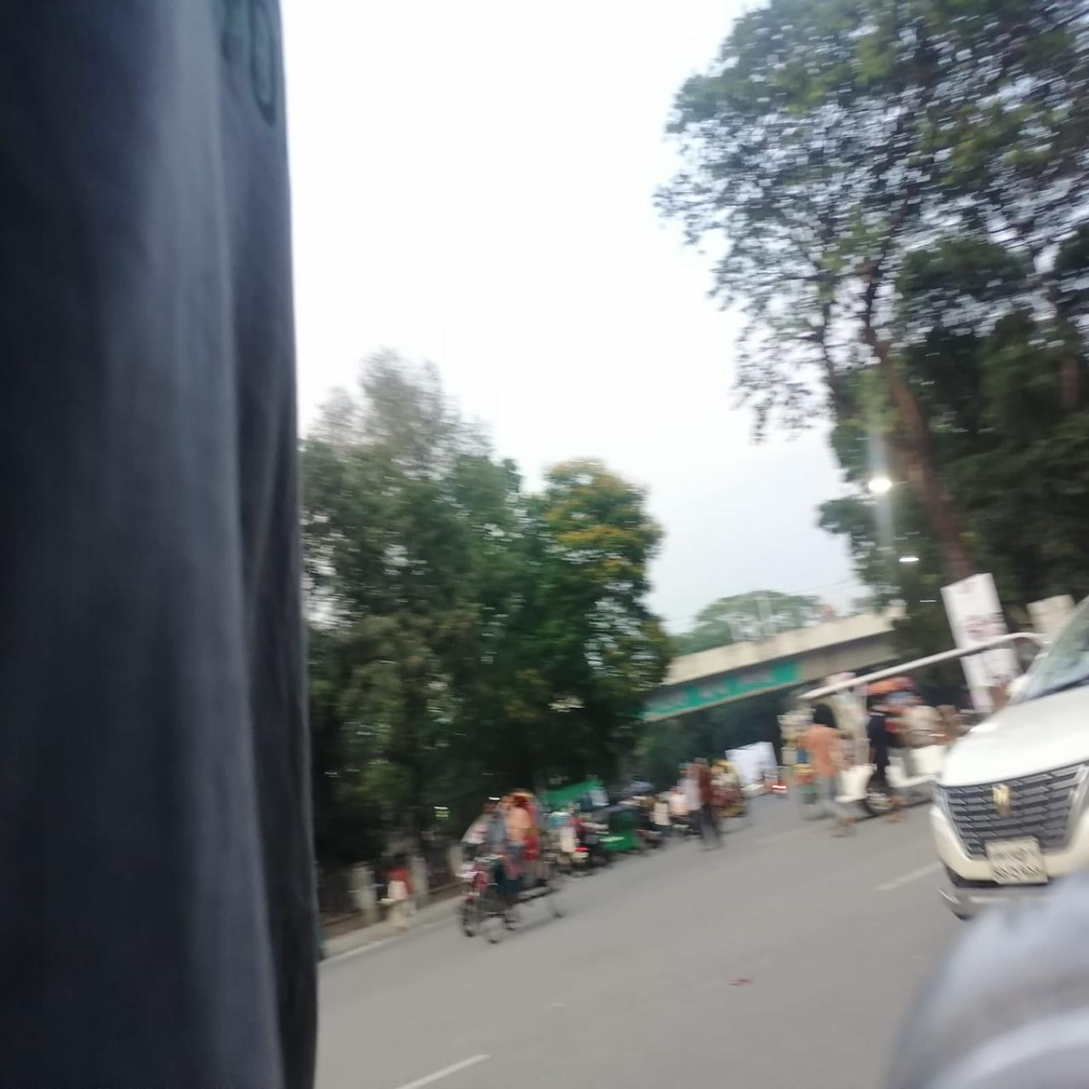person: (800, 711, 861, 837), (861, 711, 903, 820), (675, 757, 724, 847)
